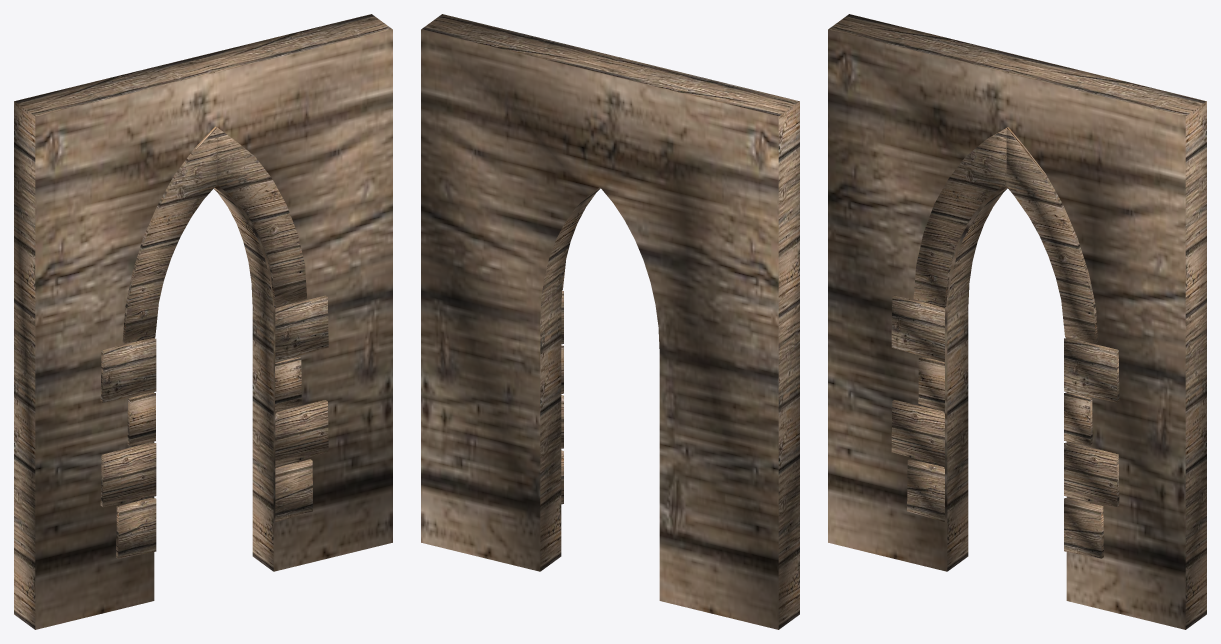
The model's file is wood door1.glb.
The picture shows the model from 3 angles, left to right: view 1: azimuth 30°, elevation 25°; view 2: azimuth 150°, elevation 25°; view 3: azimuth 330°, elevation 25°; orthographic projection.
Parts seen in each view (by area): view 1: Pointed Arch Door.002; view 2: Pointed Arch Door.002; view 3: Pointed Arch Door.002.
Boxes of the visible parts, x1=… form: Pointed Arch Door.002: x1=14, y1=14, x2=392, y2=629; Pointed Arch Door.002: x1=421, y1=14, x2=799, y2=629; Pointed Arch Door.002: x1=828, y1=14, x2=1206, y2=629.
Size of the model in its own units: 2 by 2.74 by 0.225.
Materials: 2 (2 with a texture image).
